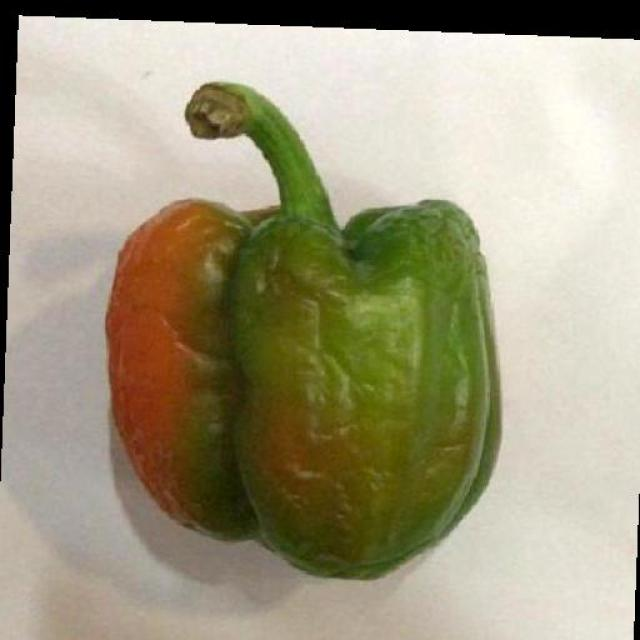Stale_Capsicum: (91, 127, 529, 597)
